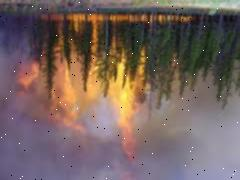fire: (40, 6, 184, 152)
